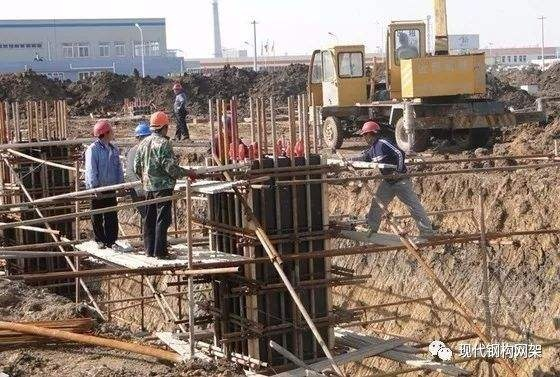blue: (134, 123, 152, 145)
red: (92, 121, 114, 143), (360, 120, 379, 143)
yellow: (151, 110, 170, 136)
